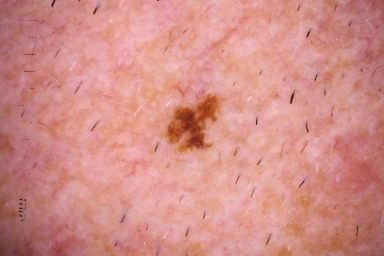melanoma: (167, 96, 221, 152)
